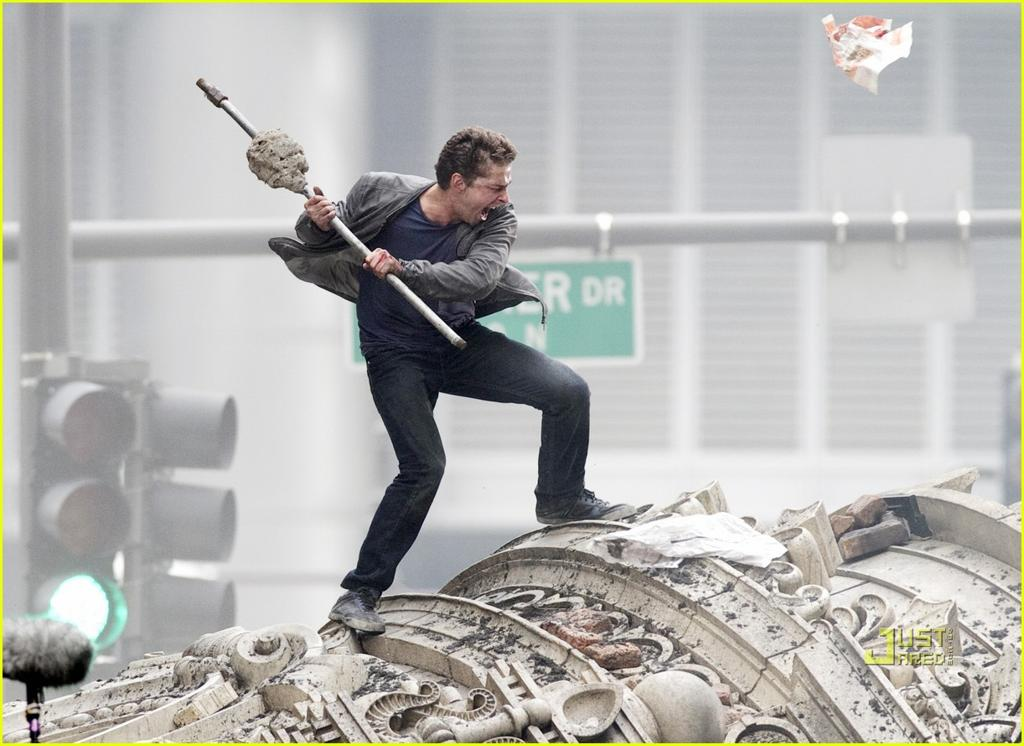face: (452, 142, 510, 222)
